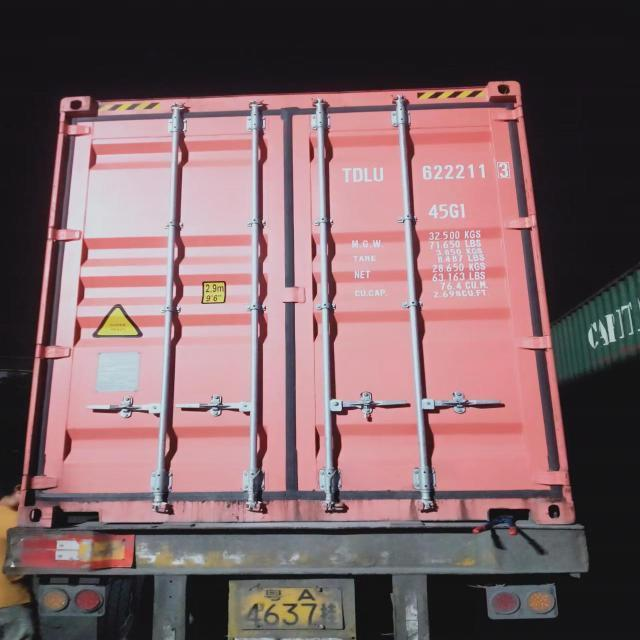ISO: (423, 200, 472, 222)
container_number: (339, 161, 511, 189)
